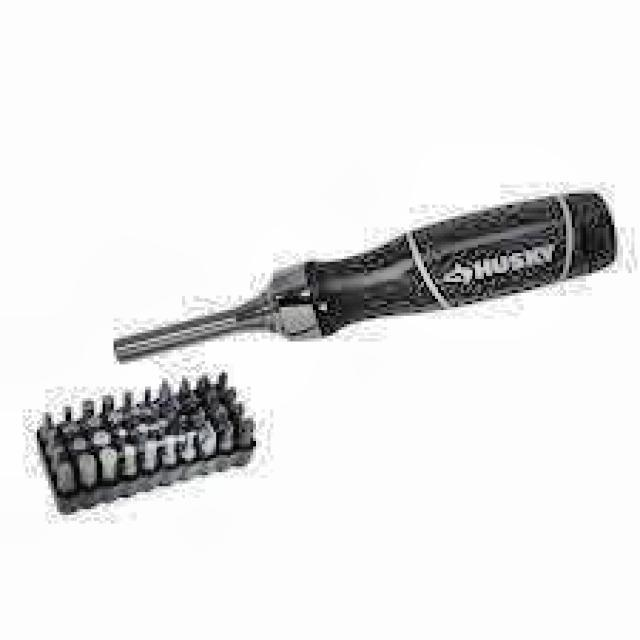screwdriver: (113, 192, 616, 362)
